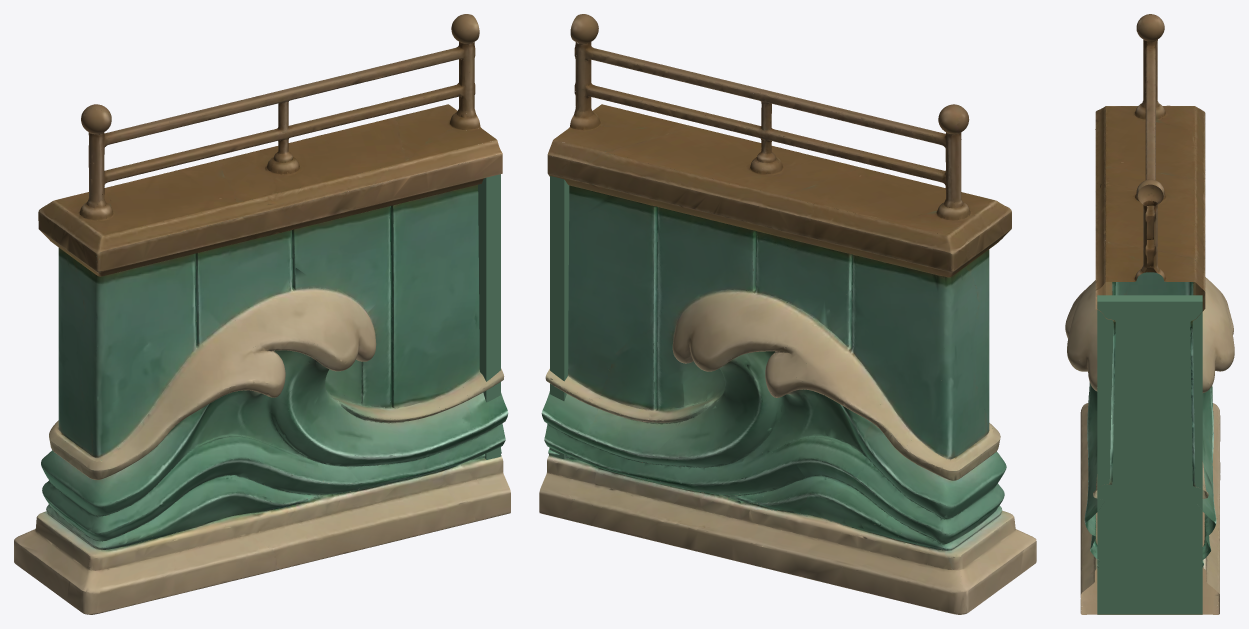
Rendered from act1_wave_wall_half.glb.
The picture shows the model from 3 angles, left to right: view 1: azimuth 30°, elevation 25°; view 2: azimuth 150°, elevation 25°; view 3: azimuth 270°, elevation 25°; orthographic projection. The views are drawn at different scales.
Visible parts, largest first — view 1: RODIN_Act1_WaveWallHalf; view 2: RODIN_Act1_WaveWallHalf; view 3: RODIN_Act1_WaveWallHalf.
Part boxes in pixels (box(x1,y1,x2,y2)): RODIN_Act1_WaveWallHalf: box(14, 14, 510, 614); RODIN_Act1_WaveWallHalf: box(539, 14, 1036, 614); RODIN_Act1_WaveWallHalf: box(1065, 14, 1234, 614).
Bounding box in the file's own units: 0.9401 × 0.9999 × 0.3558.
Materials: 1 (1 with a texture image).
